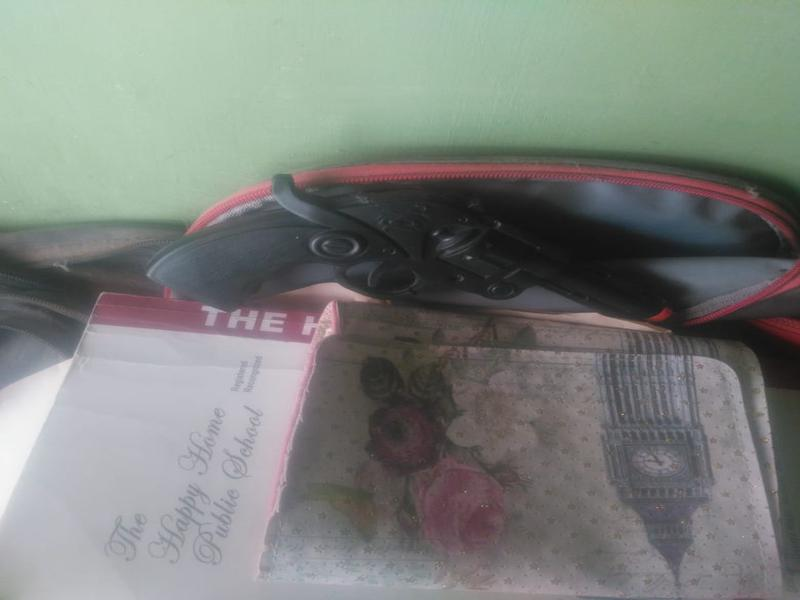gun: (129, 167, 684, 363)
